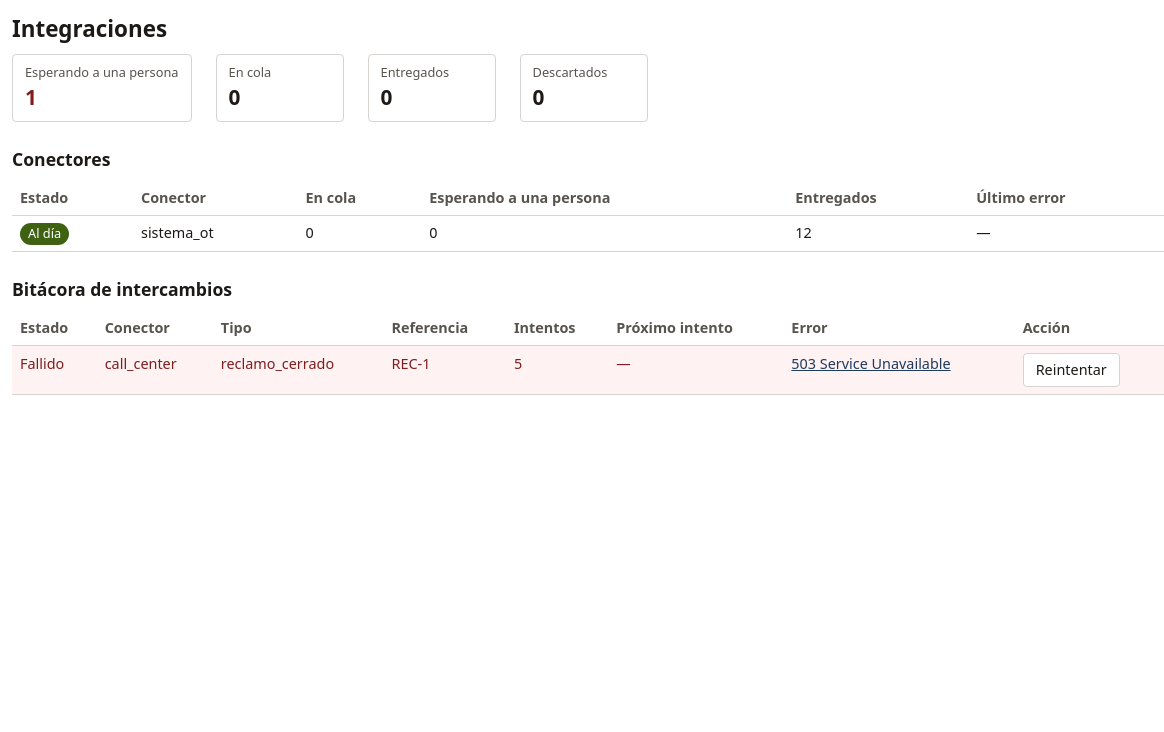
Test: la bitácora › muestra la primera línea del error y el detalle completo al desplegarlo
Click the button "503 Service Unavailable" at x=871, y=363, box [791,352,951,374]
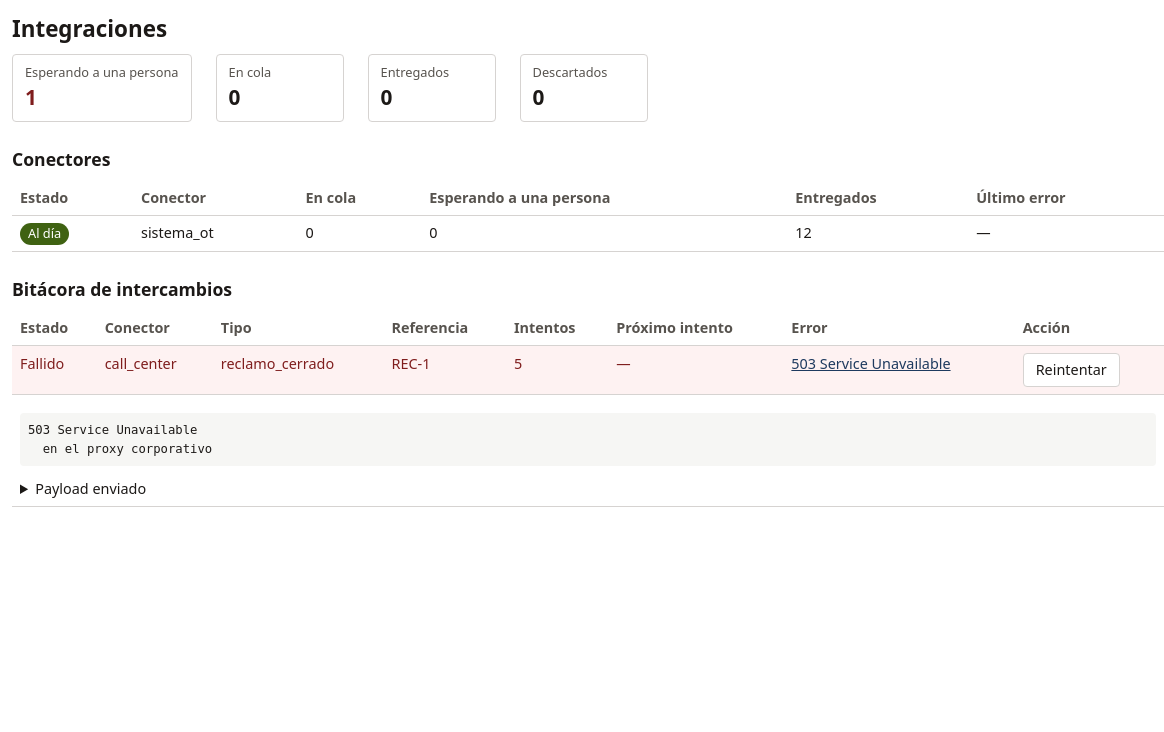
Result: the text "503 Service Unavailable en el proxy corporativo" is shown at [20,413,1156,466]
Result: the heading "Payload enviado" is shown at [35,479,146,498]
